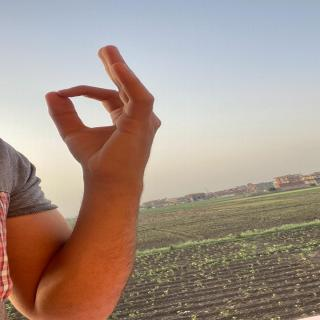Space: (32, 38, 169, 180)
